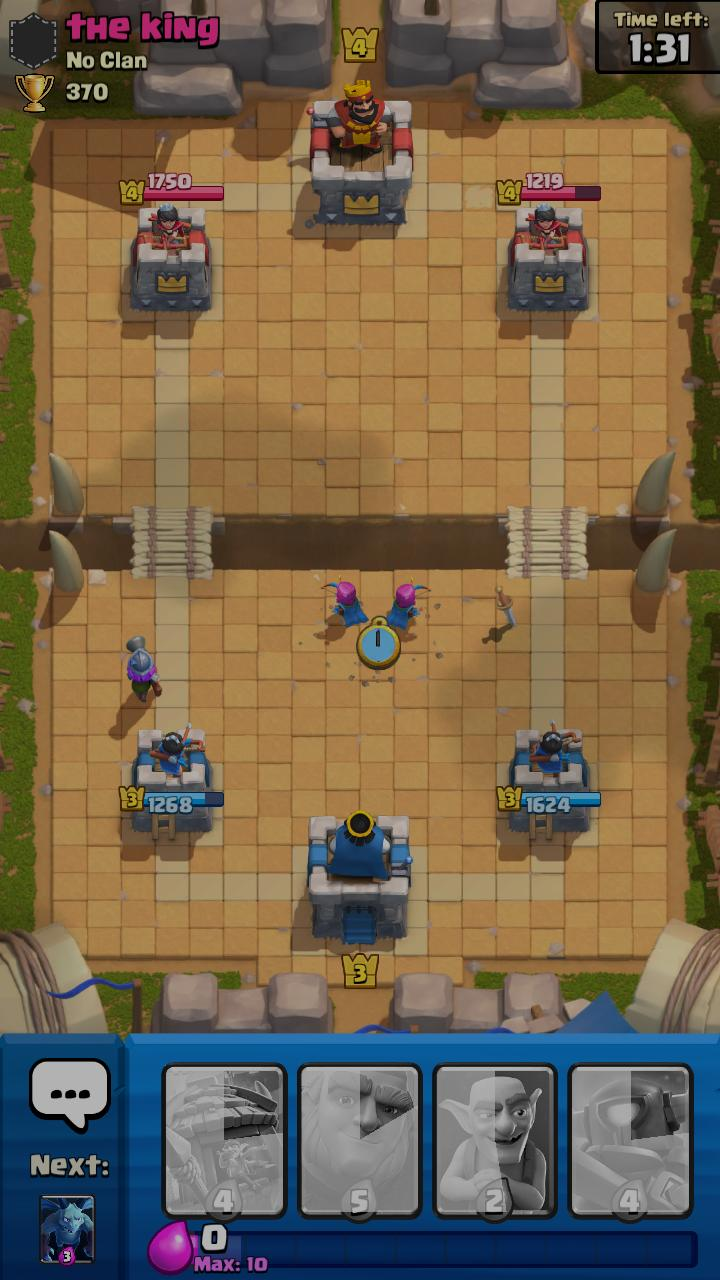ally: (320, 574, 369, 628), (125, 635, 162, 703), (386, 577, 431, 630)
